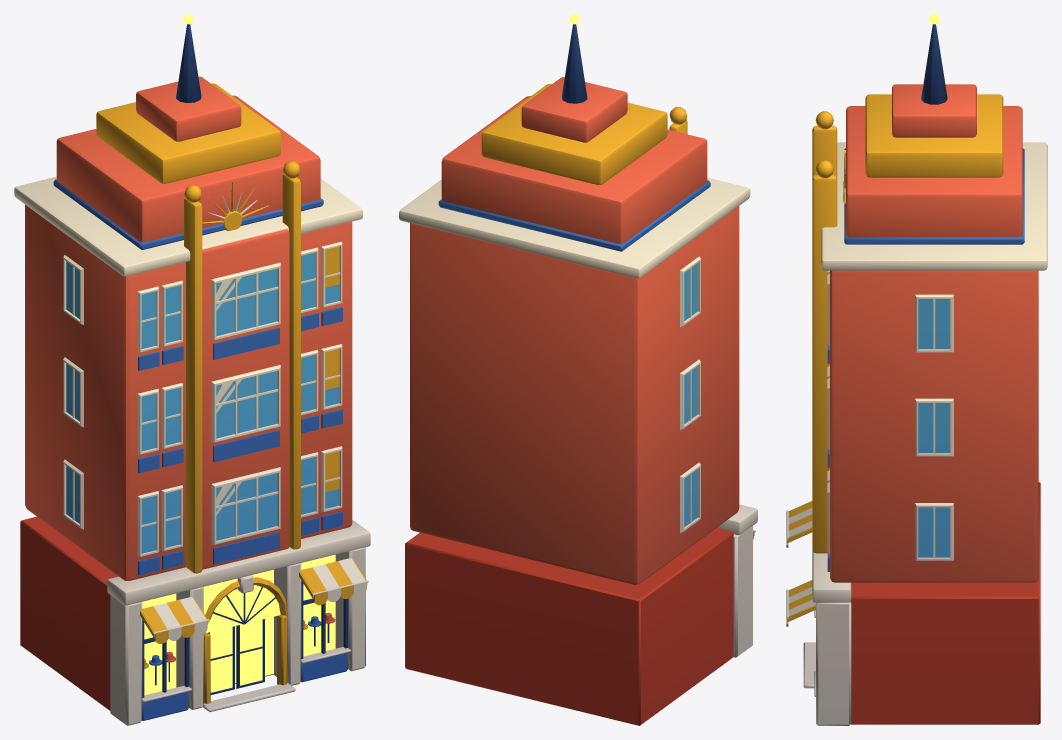
The model's file is tower_b.glb.
The picture shows the model from 3 angles, left to right: view 1: azimuth 30°, elevation 25°; view 2: azimuth 150°, elevation 25°; view 3: azimuth 270°, elevation 25°; orthographic projection.
Parts seen in each view (by area): view 1: tower_b; view 2: tower_b; view 3: tower_b.
Part boxes in pixels (bbox=[...]): tower_b: bbox=[14, 14, 370, 725]; tower_b: bbox=[399, 14, 757, 725]; tower_b: bbox=[786, 14, 1047, 725].
Bounding box in the file's own units: 8.2 × 20.37 × 7.39.
